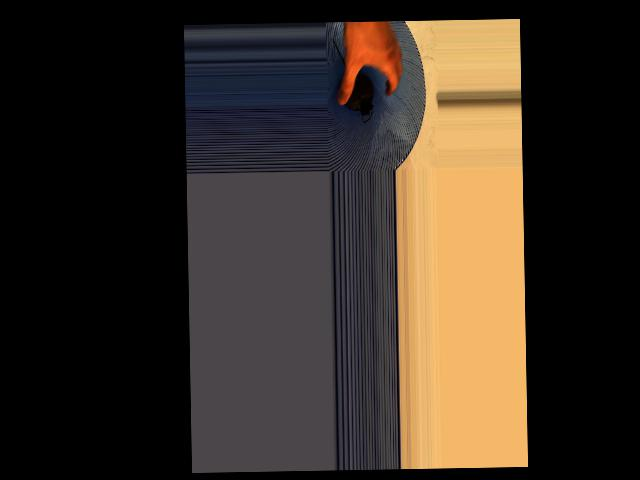beet: (332, 39, 374, 123)
